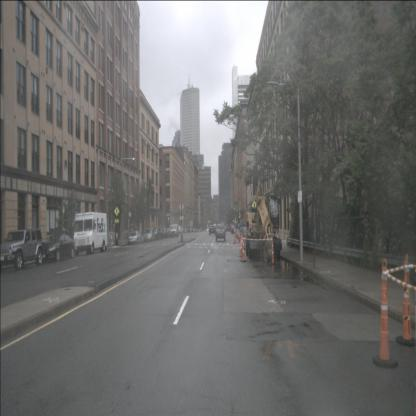cone: (373, 259, 398, 368), (395, 253, 416, 347), (270, 237, 275, 265), (240, 240, 246, 262), (240, 236, 244, 258), (233, 232, 236, 244), (241, 232, 243, 249), (243, 235, 245, 251), (234, 232, 236, 245)
